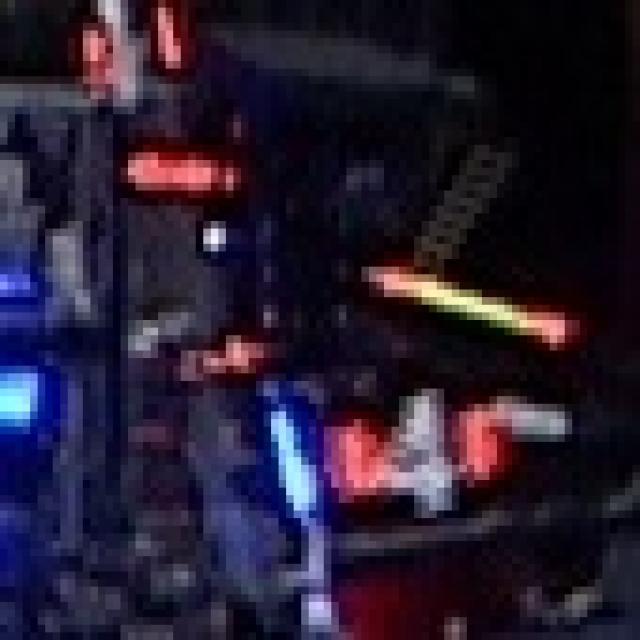R4: (324, 373, 497, 518)
